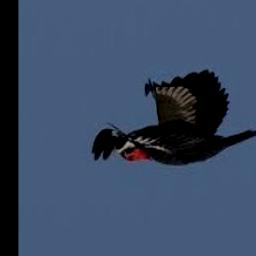Woodpecker: (93, 69, 256, 167)
